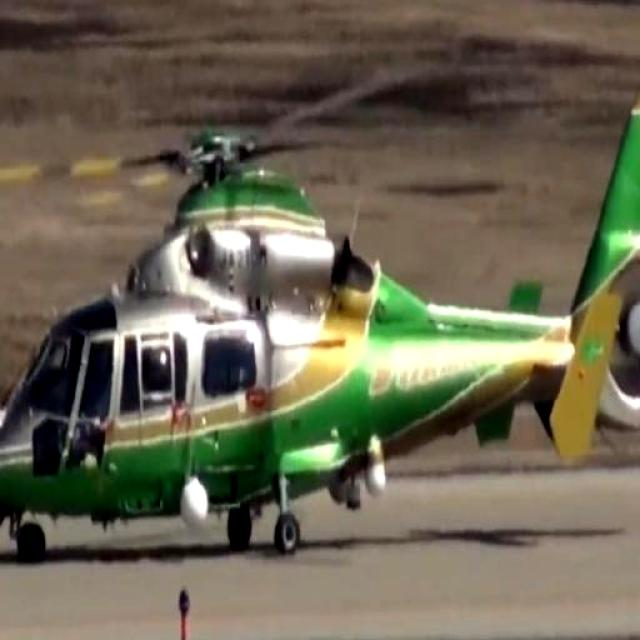drone: (0, 21, 640, 582)
